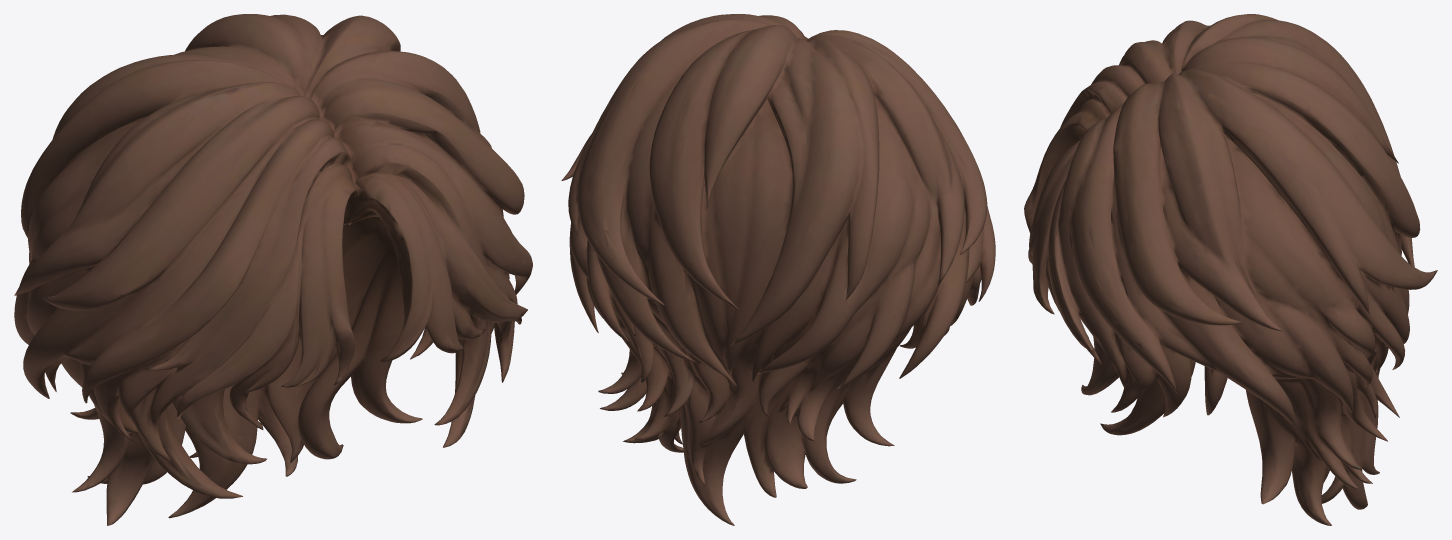
The model's file is hair_wolfcut.glb.
The picture shows the model from 3 angles, left to right: view 1: azimuth 30°, elevation 25°; view 2: azimuth 150°, elevation 25°; view 3: azimuth 270°, elevation 25°; orthographic projection. The views are drawn at different scales.
Parts seen in each view (by area): view 1: hair; view 2: hair; view 3: hair.
Boxes of the visible parts, x1=… form: hair: x1=14, y1=14, x2=532, y2=525; hair: x1=561, y1=14, x2=995, y2=525; hair: x1=1024, y1=14, x2=1437, y2=525.
Size of the model in its own units: 3.12 by 3.5 by 2.75.
1 material, 1 textured.
